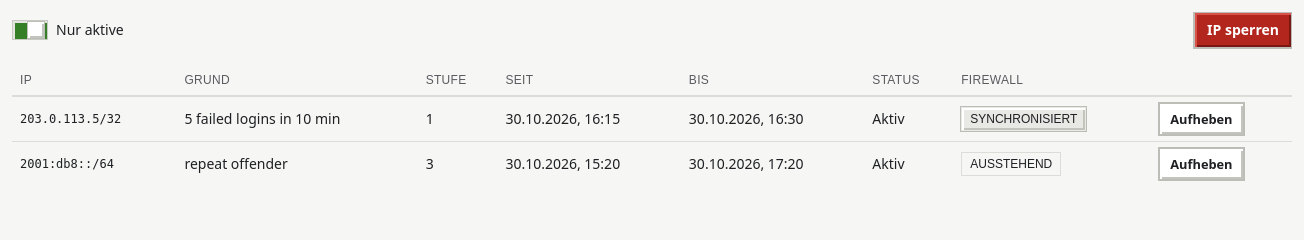
Test: JailsTab › lists active jails and can include lifted ones
Expected: the number of rows is 3, [12,64,1292,96]; [12,97,1292,142]; [12,142,1292,186]
Click the switch named "Nur aktive": (30, 30) [12,20,48,40]
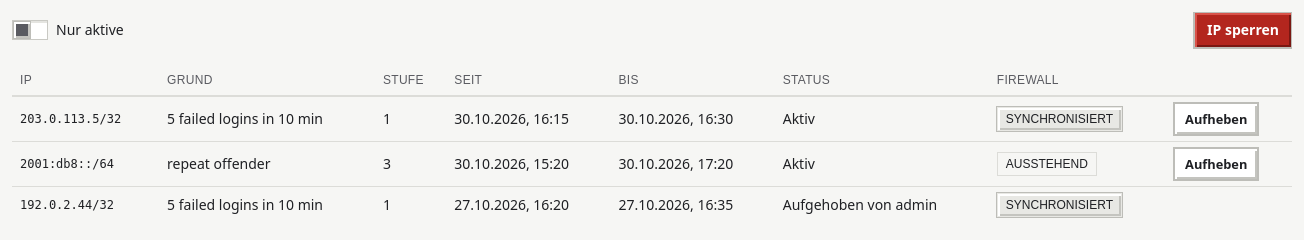
Result: the text "Aufgehoben von admin" is shown at [775,186,989,223]
